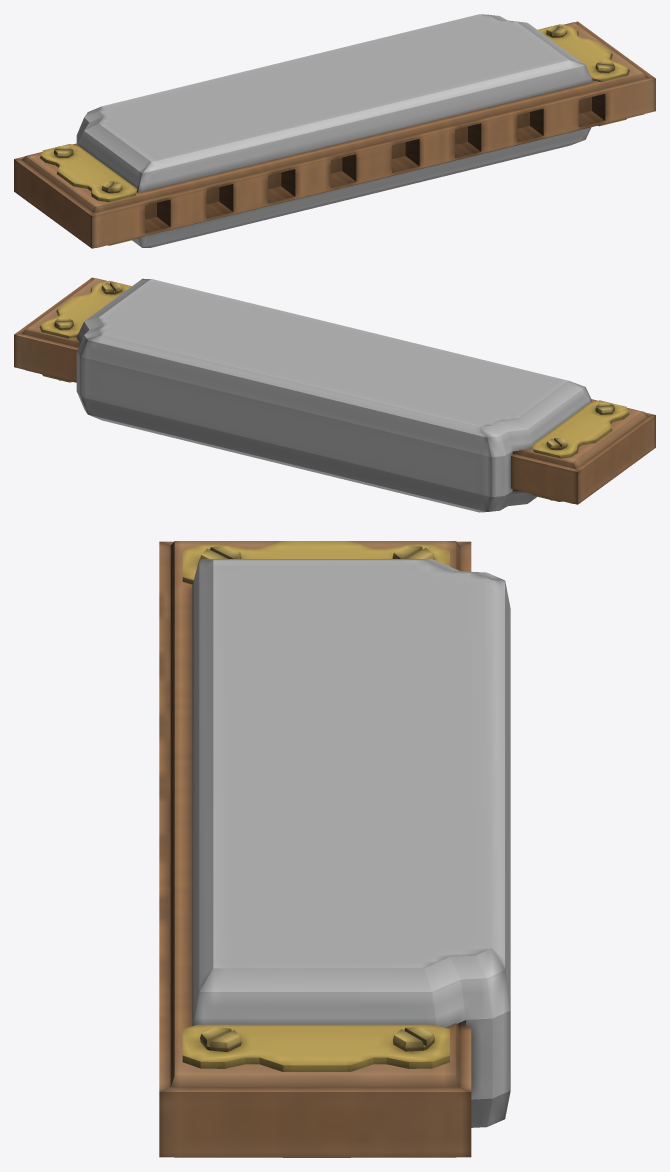
Rendered from harmonica.glb.
3 renders of one model, top to bottom at view 1: azimuth 30°, elevation 25°; view 2: azimuth 150°, elevation 25°; view 3: azimuth 270°, elevation 25°, orthographic. The views are drawn at different scales.
Visible parts, largest first — view 1: Harmonica_mesh; view 2: Harmonica_mesh; view 3: Harmonica_mesh.
Boxes of the visible parts, box(x1,y1,x2,y2) form: Harmonica_mesh: box(14, 14, 655, 248); Harmonica_mesh: box(14, 277, 655, 512); Harmonica_mesh: box(159, 541, 510, 1157).
Bounding box in the file's own units: 18.17 × 2.63 × 4.9.
Materials: 1 (1 with a texture image).
